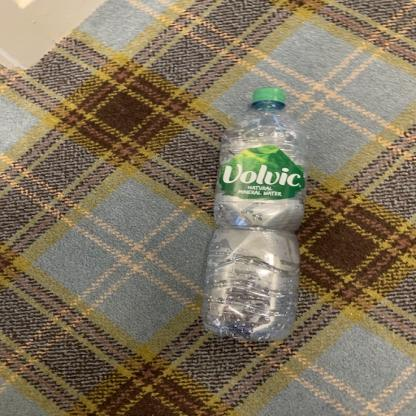trash: (208, 81, 306, 344)
